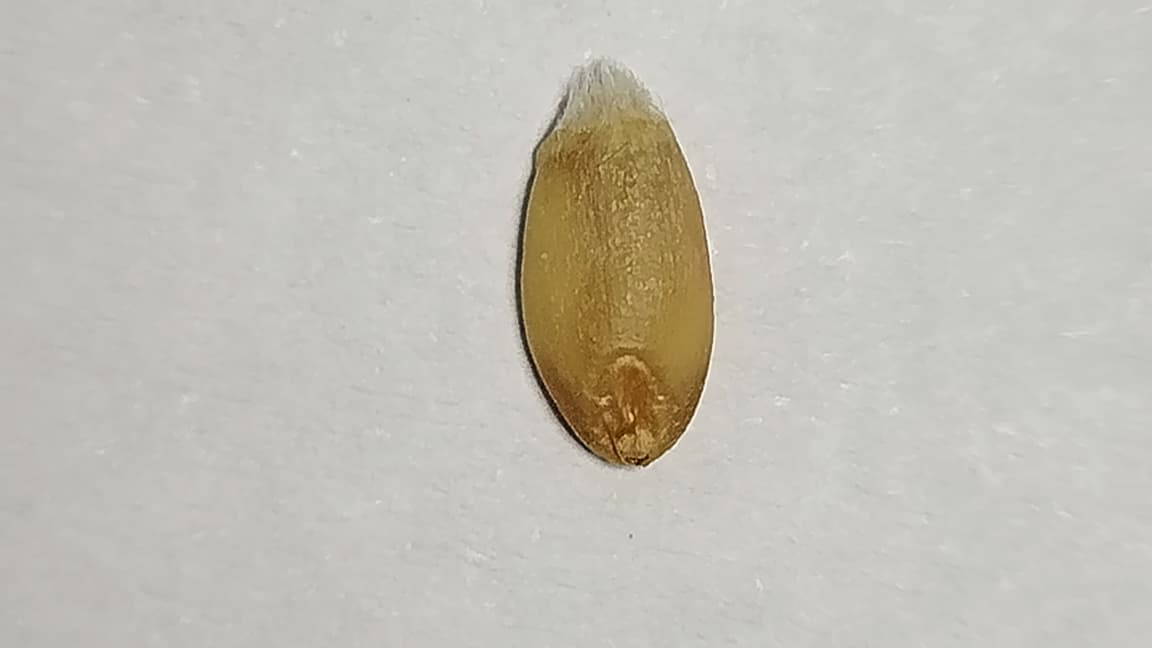healthy: (520, 63, 713, 463)
